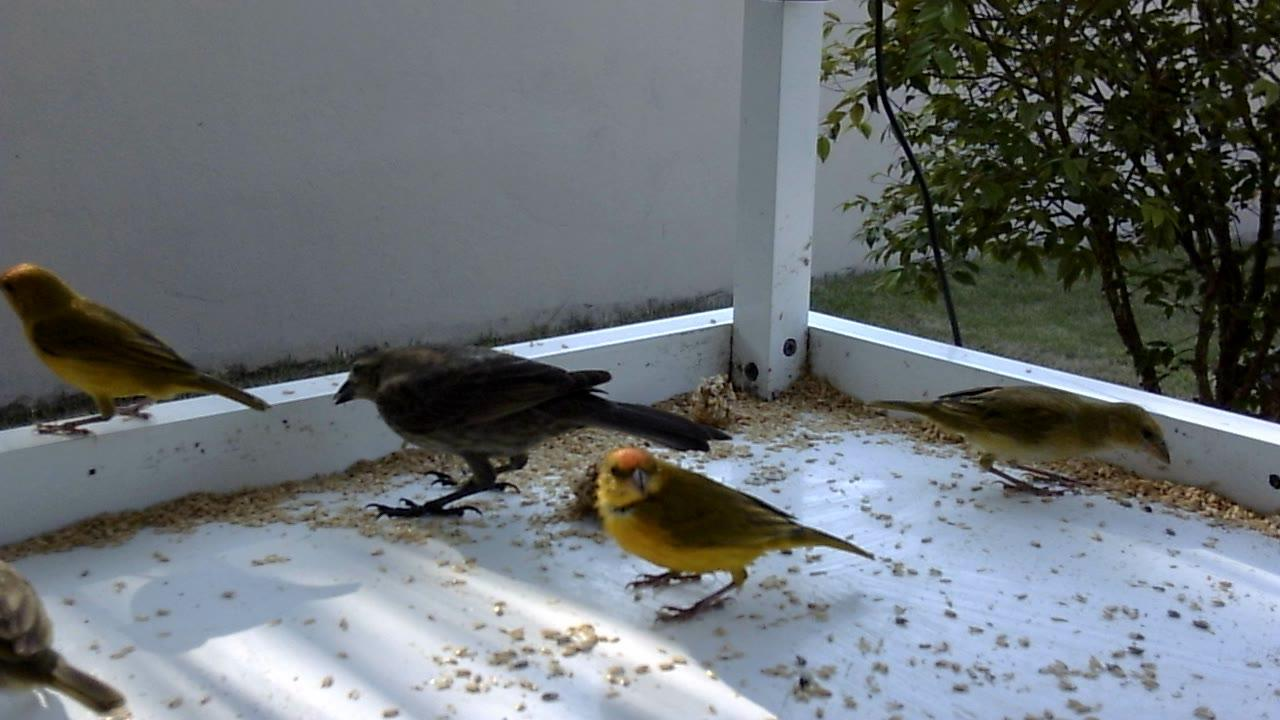canario_do_amazonas: (596, 445, 877, 631), (1, 259, 278, 446), (863, 380, 1174, 505), (1, 556, 159, 720)
chupim: (328, 341, 738, 525)
